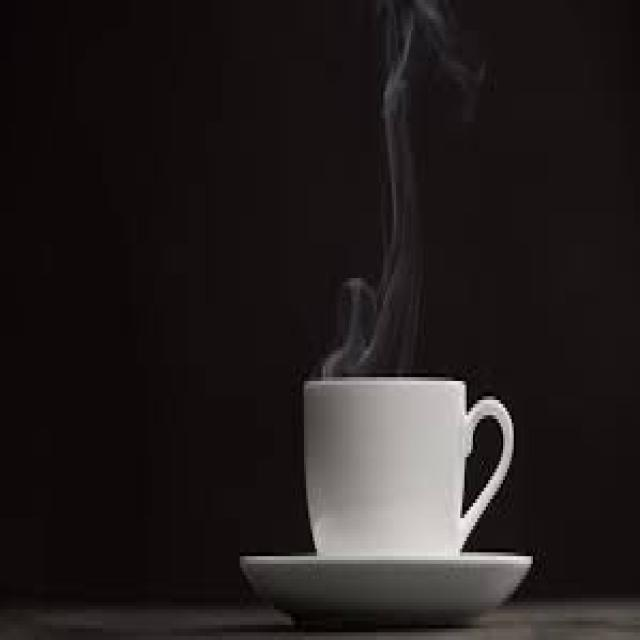taza: (126, 145, 529, 409)
